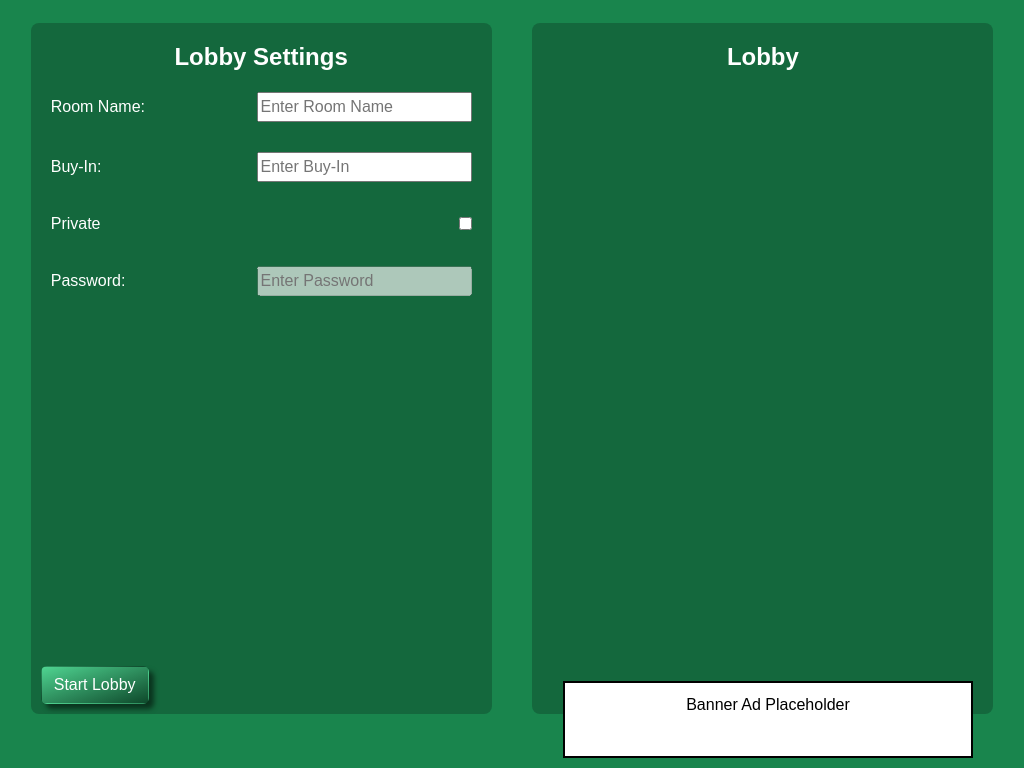
App Component › Create Game Page › shows Start Game button after game is created
The width and height of the screenshot is (1024, 768).
Click the button "Start Lobby". click: (95, 685)
box: [41,666,148,704]
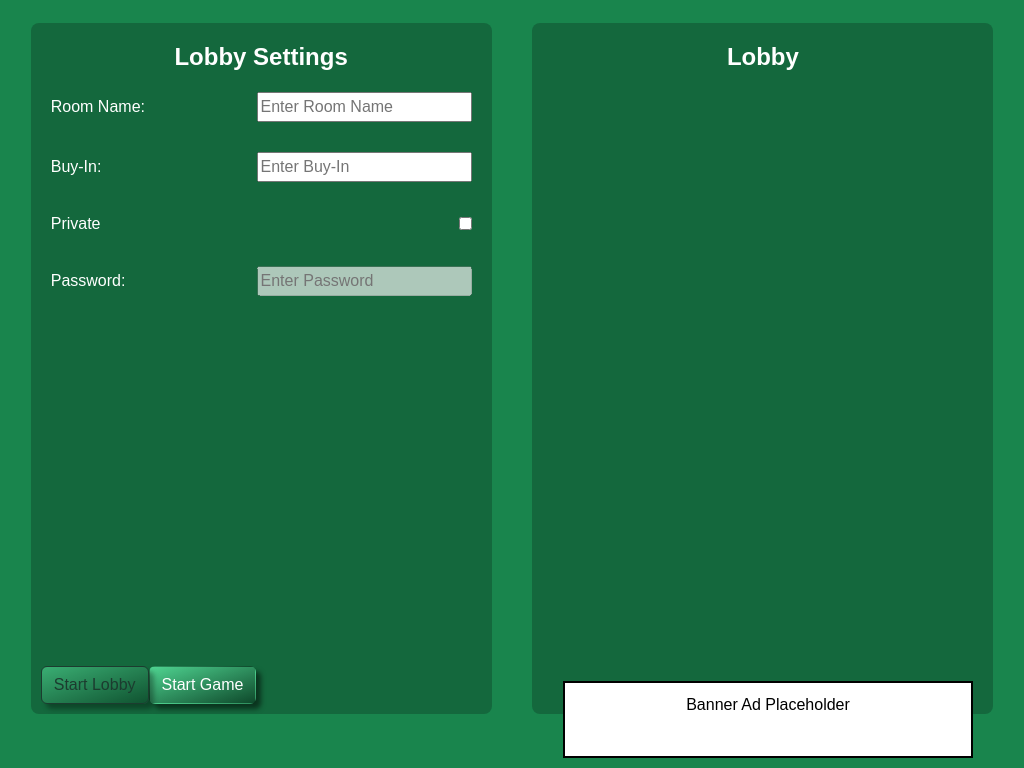
Now the button "Start Game" is shown, box [148,666,256,704]
